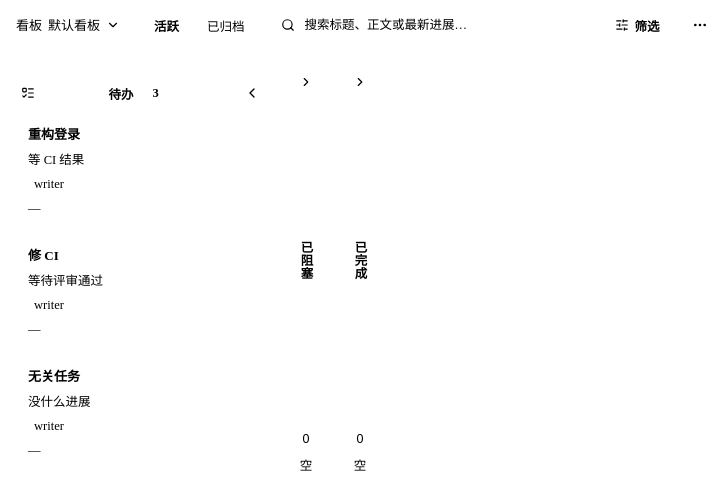
it: KanbanRoute 搜索与批量删除 › 按任务正文搜索能命中
Check: the text "无关任务" is shown, box top-left (28, 369), bottom-right (80, 384)
Type "部署脚本" into the field named "搜索任务".
click(442, 25); type("部署脚本")  # box top-left (303, 16), bottom-right (581, 34)
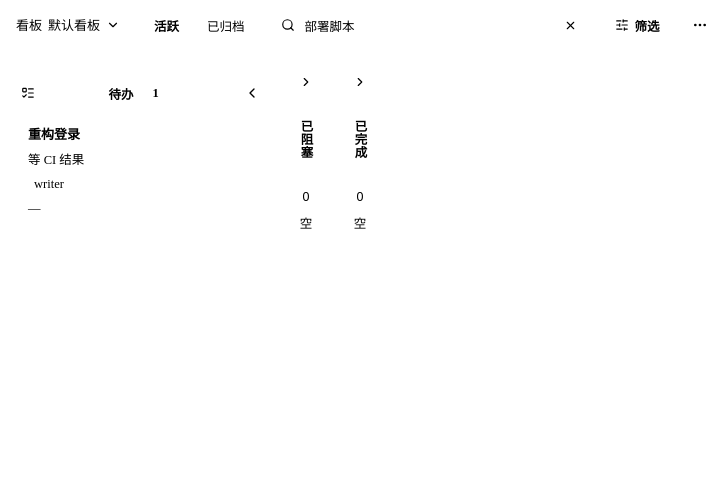
Check: the text "重构登录" is shown, box top-left (28, 127), bottom-right (80, 142)
Check: the button "无关任务" is gone
